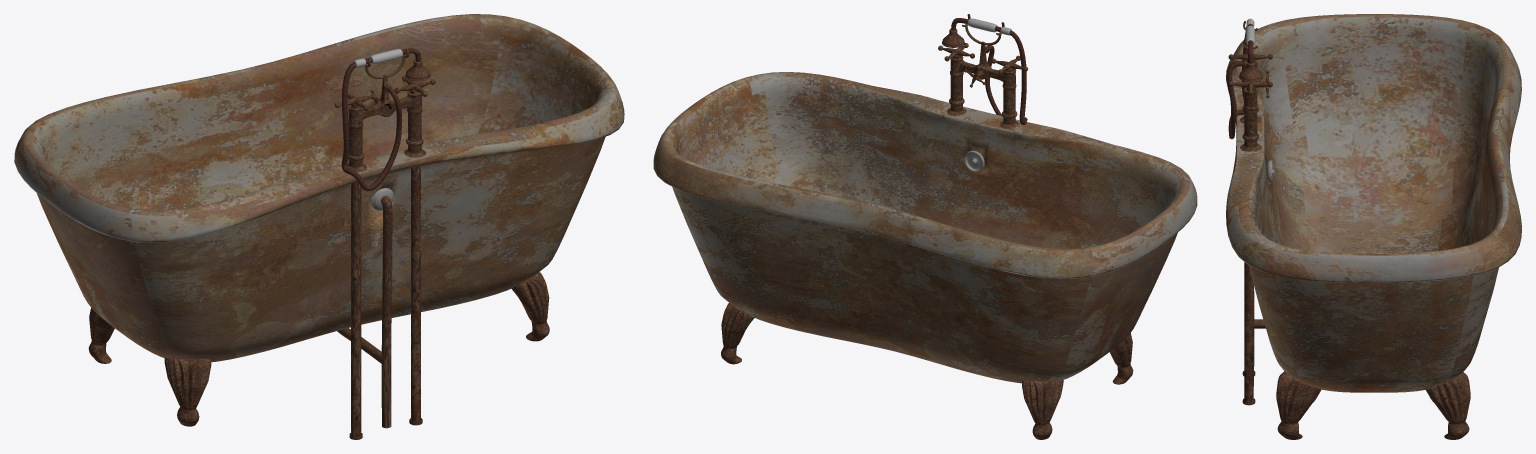
The picture shows the model from 3 angles, left to right: view 1: azimuth 30°, elevation 25°; view 2: azimuth 150°, elevation 25°; view 3: azimuth 270°, elevation 25°; orthographic projection. The views are drawn at different scales.
Visible parts, largest first — view 1: Bath, Shower, Pipe3, Pipe2, Pipe1, Leg2, ShoweLenght, Leg3, Leg1; view 2: Bath, Shower, Leg1, Leg4, ShoweLenght, Leg2; view 3: Bath, Leg3, Leg4, Shower, Pipe2, ShoweLenght, ShowerHead.
Part boxes in pixels (bbox=[...]): Bath: bbox=[14, 14, 624, 362]; Shower: bbox=[334, 48, 435, 172]; Pipe3: bbox=[349, 181, 362, 439]; Pipe2: bbox=[409, 166, 422, 425]; Pipe1: bbox=[381, 195, 392, 428]; Leg2: bbox=[164, 357, 211, 426]; ShoweLenght: bbox=[341, 48, 421, 191]; Leg3: bbox=[511, 272, 549, 341]; Leg1: bbox=[88, 307, 114, 363]; Bath: bbox=[653, 72, 1197, 383]; Shower: bbox=[938, 14, 1027, 128]; Leg1: bbox=[1022, 379, 1063, 439]; Leg4: bbox=[721, 303, 754, 364]; ShoweLenght: bbox=[951, 18, 1027, 124]; Leg2: bbox=[1109, 333, 1133, 384]; Bath: bbox=[1226, 14, 1521, 392]; Leg3: bbox=[1276, 371, 1321, 439]; Leg4: bbox=[1426, 372, 1470, 439]; Shower: bbox=[1228, 21, 1272, 151]; Pipe2: bbox=[1242, 262, 1255, 405]; ShoweLenght: bbox=[1227, 24, 1253, 139]; ShowerHead: bbox=[1239, 61, 1263, 82].
Bounding box in the file's own units: 390 × 263 × 197.
12 materials, 11 textured.
